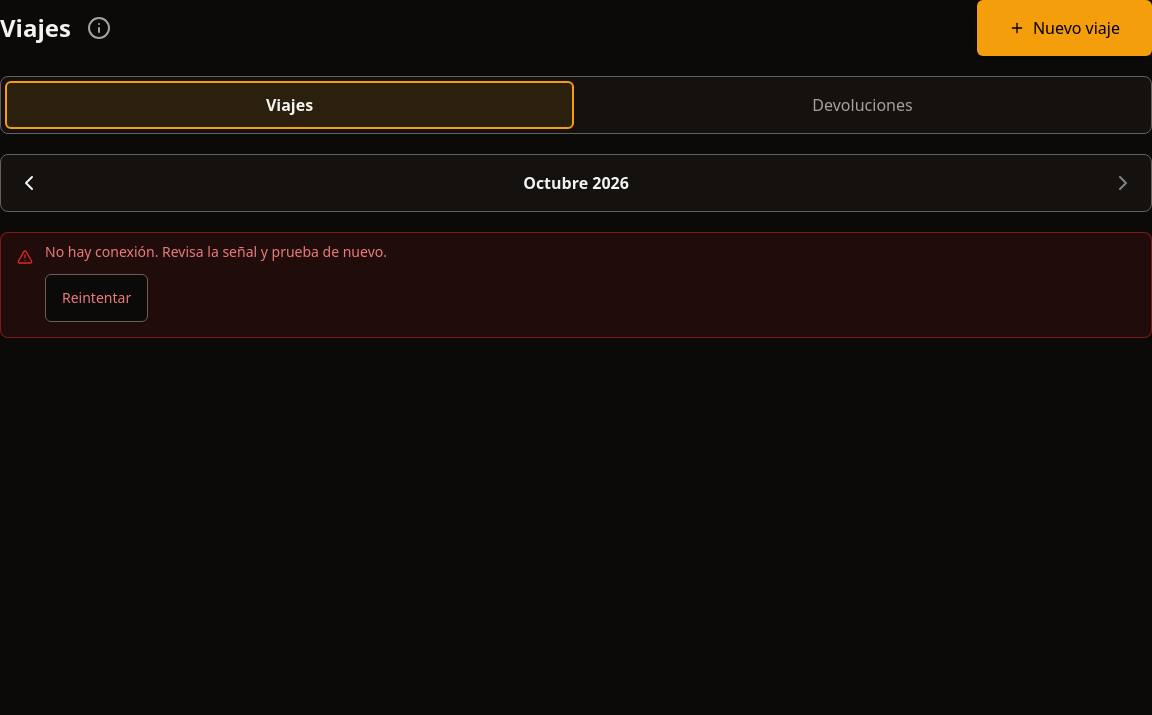
Test case: lista de viajes: estados › mientras carga muestra el esqueleto; si falla, un error en español con "Reintentar" que vuelve a pedir la lista
Click the button "Reintentar".
click(97, 298)  # box [45,274,148,322]
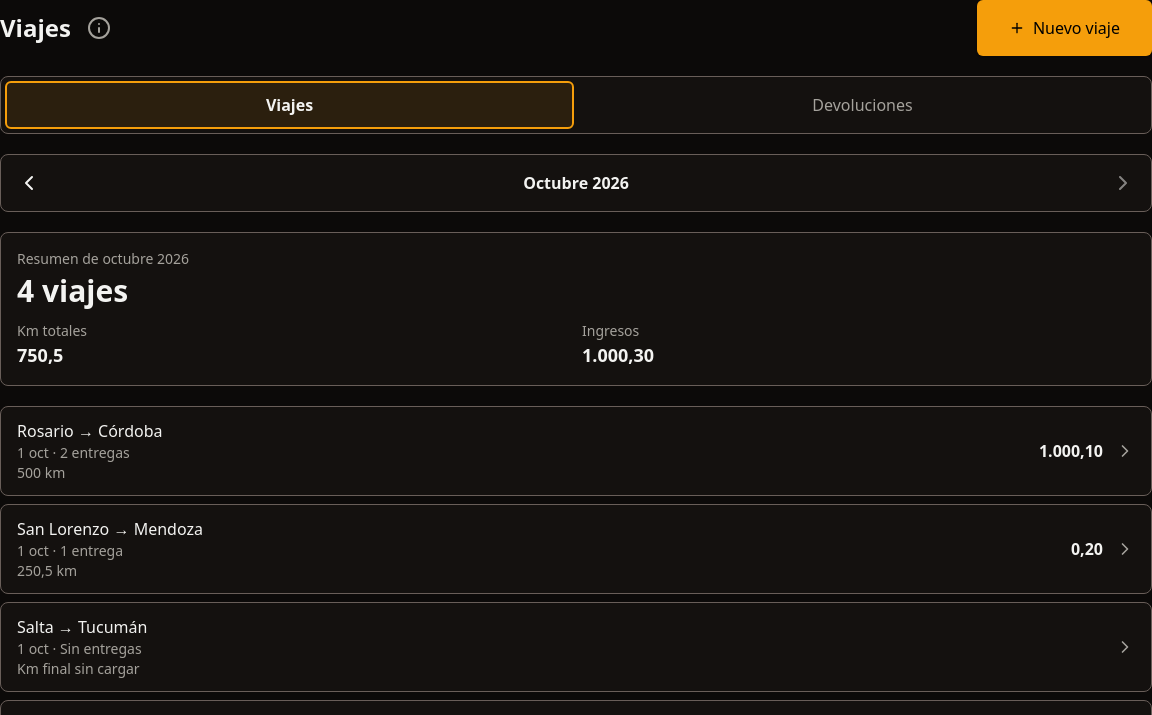
Expected: the text "No hay conexión" is gone
